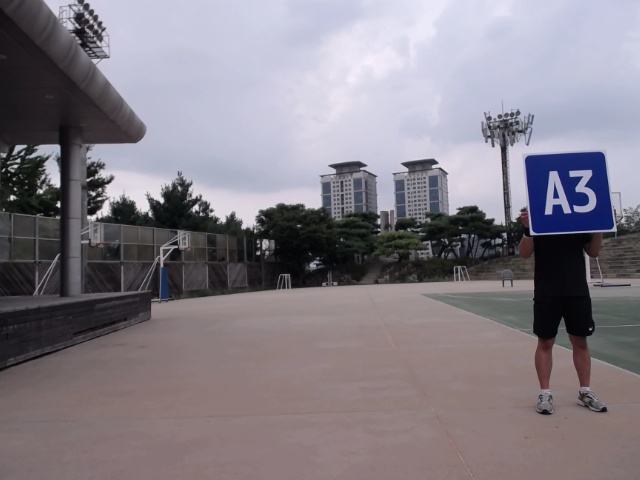delivery_a3: (524, 150, 614, 235)
